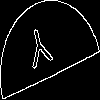Y: (25, 24, 56, 79)
